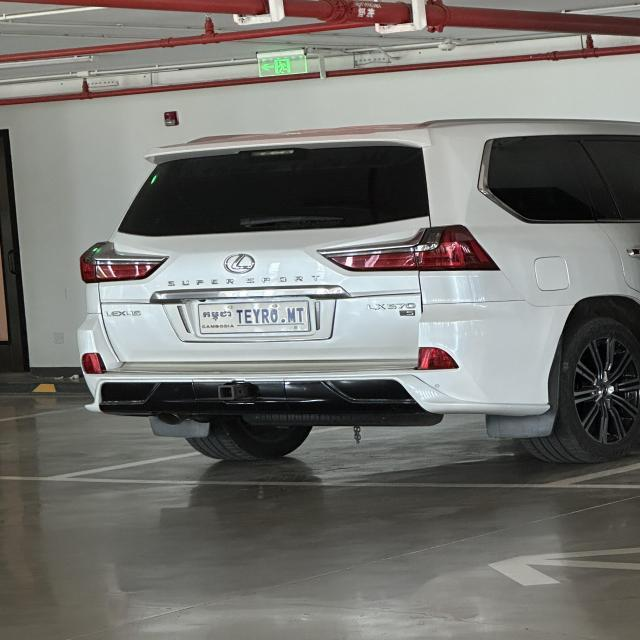Cambodia: (201, 310, 232, 324)
